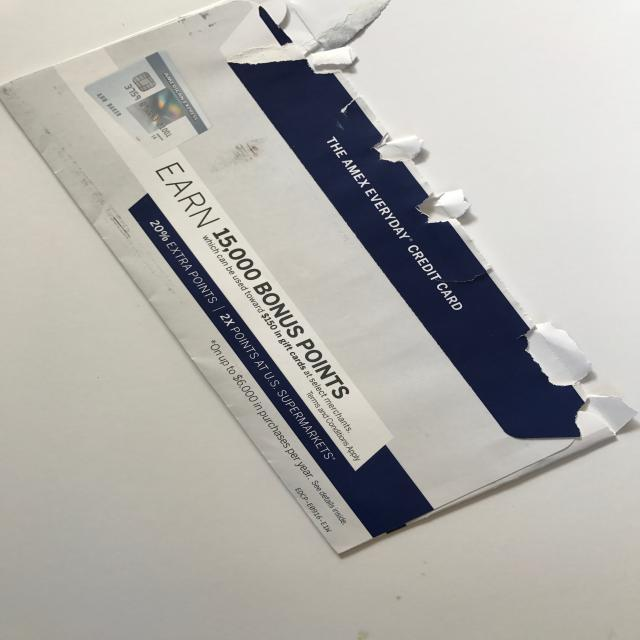paper: (0, 1, 640, 558)
